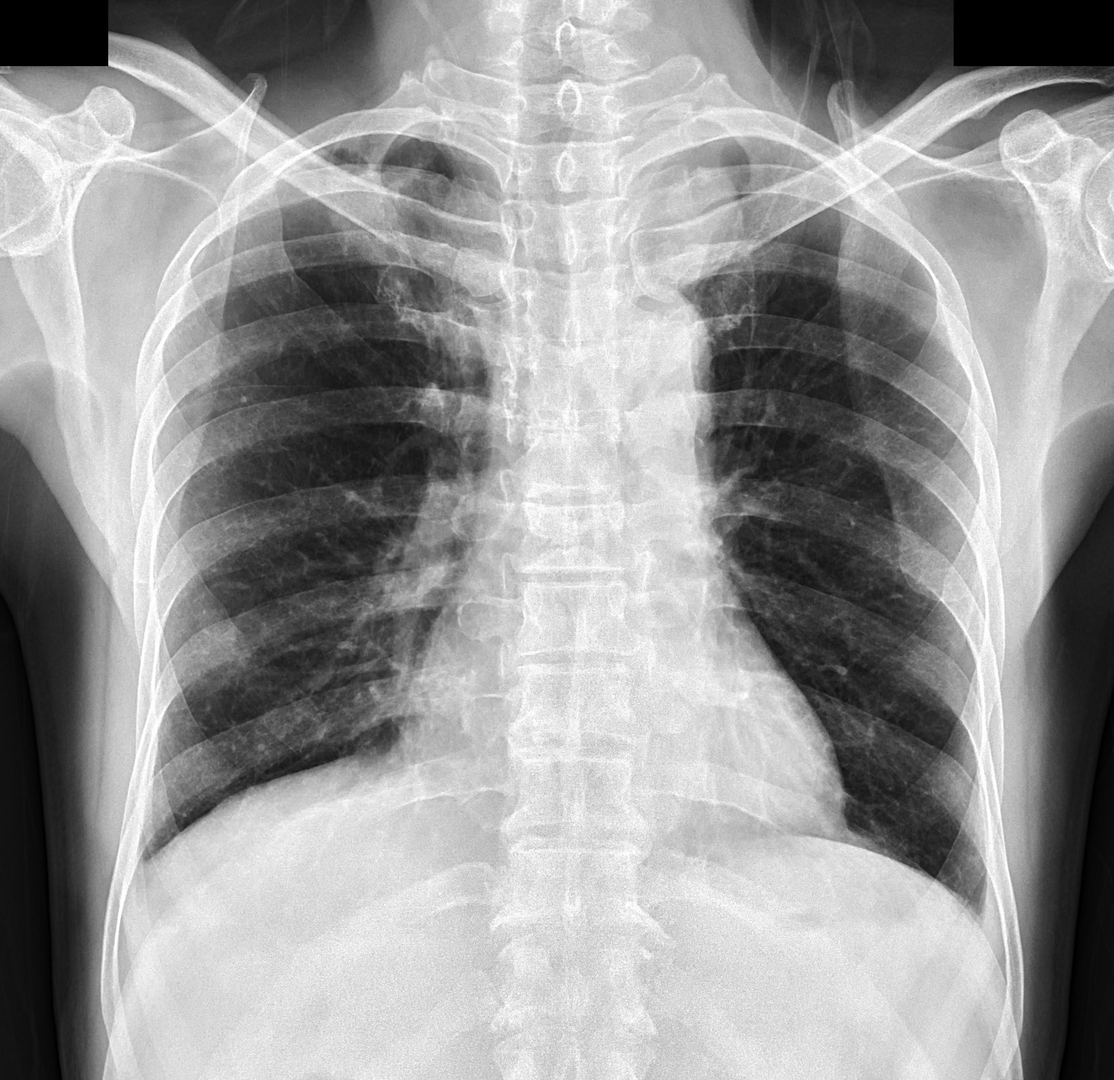Aortic enlargement: (553, 289, 711, 439)
Cardiomegaly: (396, 659, 847, 840)
Pleural thickening: (297, 131, 465, 188), (132, 841, 153, 882)
